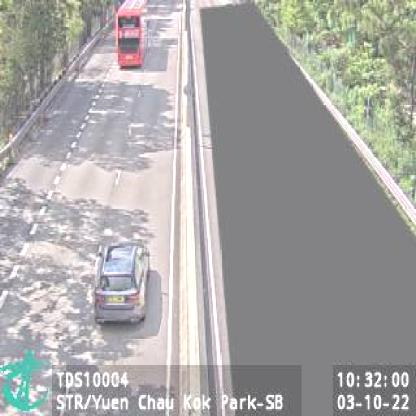Bus: (115, 0, 146, 66)
Car: (94, 239, 150, 326)
